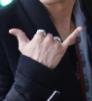clockwise: (6, 22, 83, 66)
